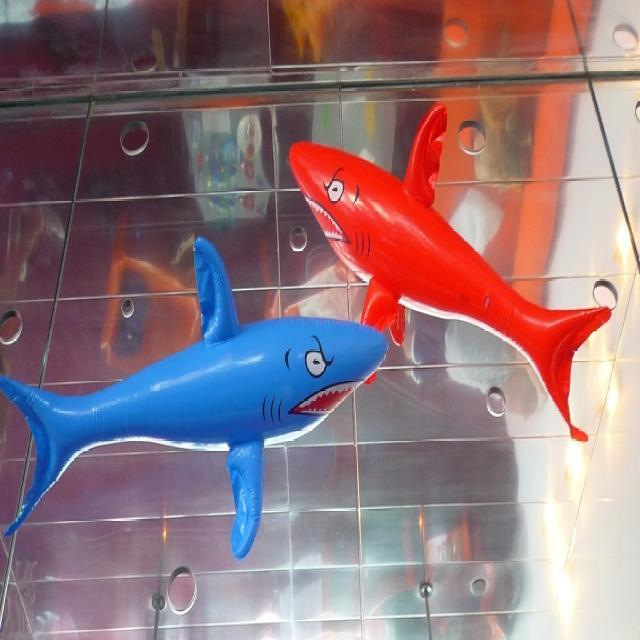Shark: (0, 238, 388, 552), (290, 93, 606, 434)
